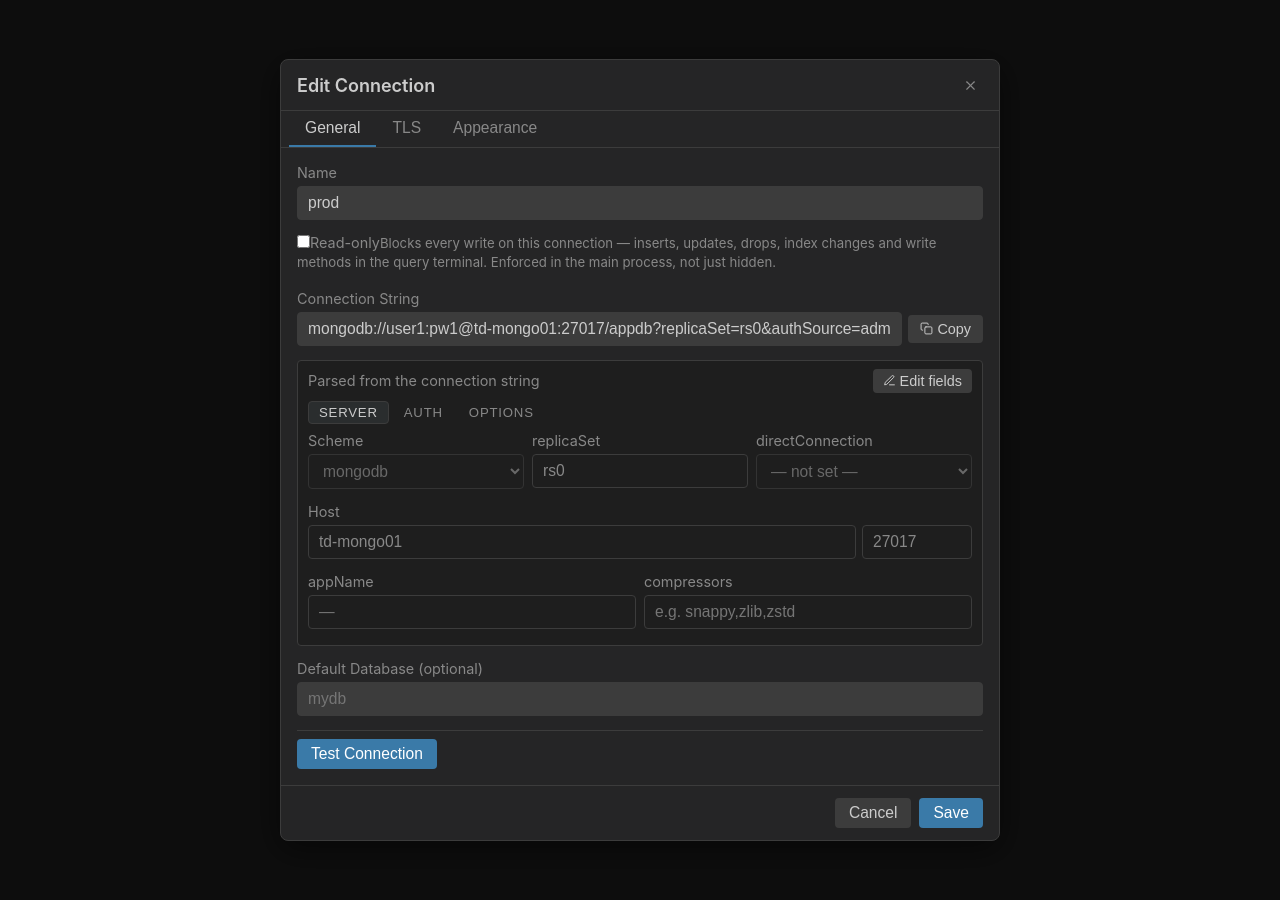
Test: ConnectionModal — connection string breakdown › drops the port when the scheme becomes mongodb+srv
Click the button "Edit fields": (922, 381) [873,369,972,393]
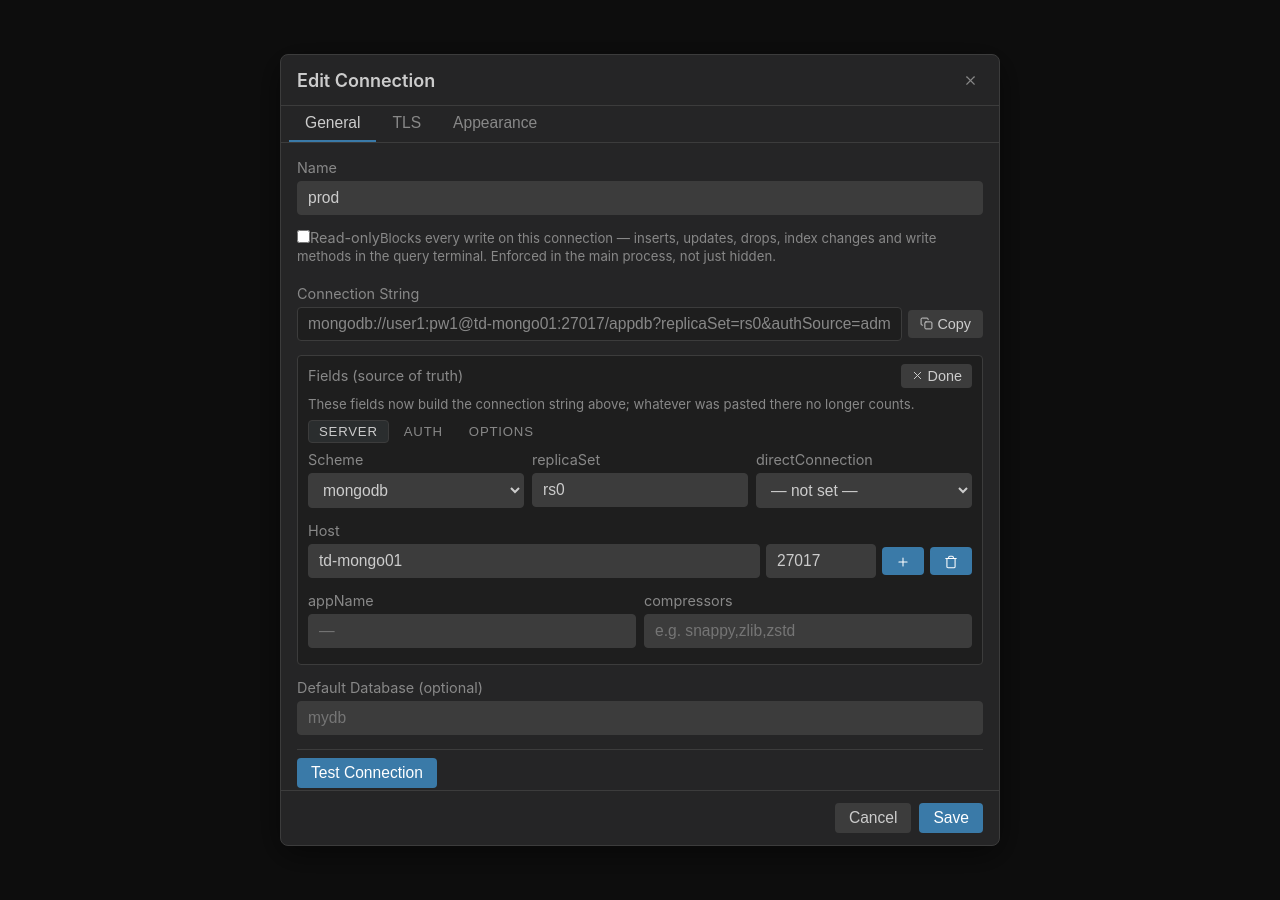
Select "mongodb+srv" in the dropdown named "Scheme": (416, 490) [308,473,524,508]
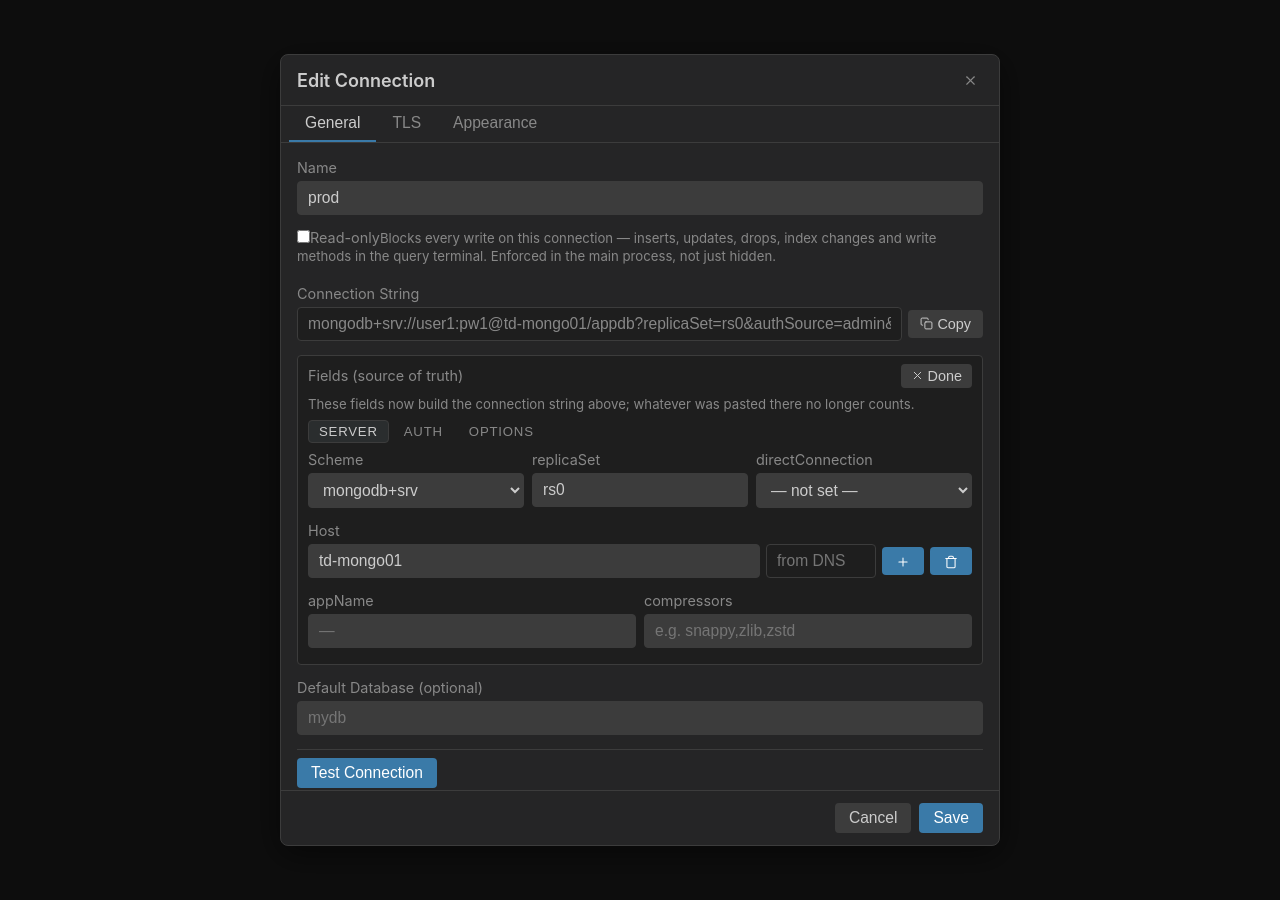
Check: the 2nd field with placeholder "mongodb://localhost:27017" holds "mongodb+srv://user1:pw1@td-mongo01/appdb?replicaSet=rs0&authSource=admin&retryWrites=true", box [297,307,902,341]
